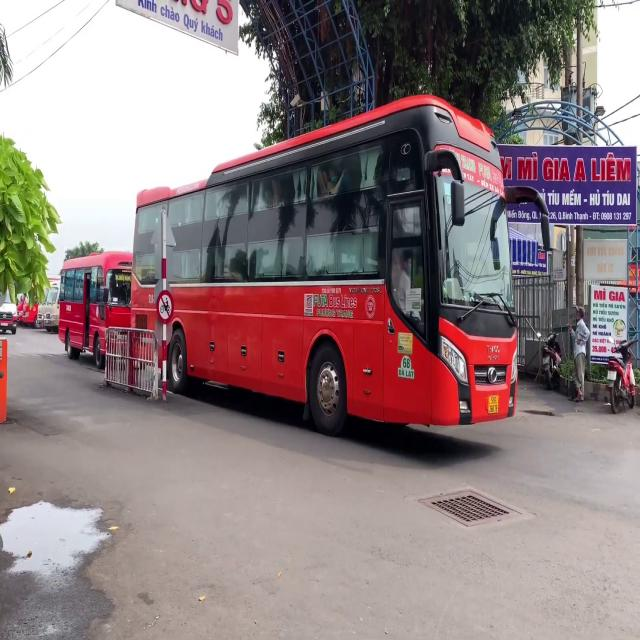bien_vang: (488, 391, 499, 415)
